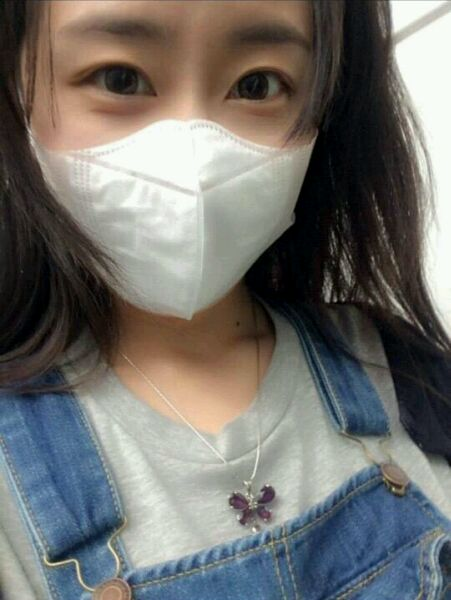face_mask: (38, 1, 312, 322)
